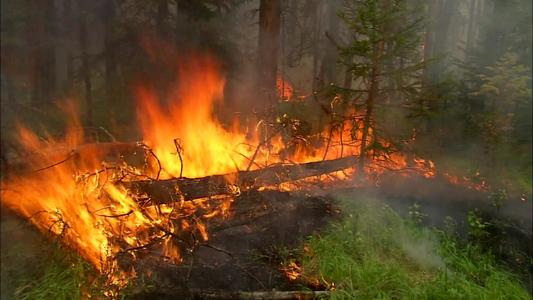fire: (4, 134, 163, 272), (139, 85, 259, 176), (270, 124, 362, 164)
